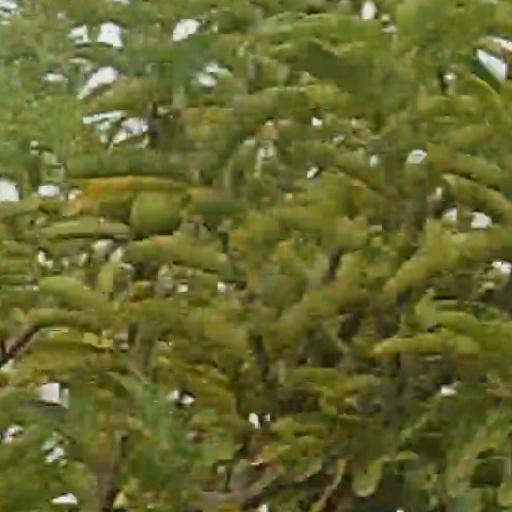acerola: (129, 195, 180, 232)
